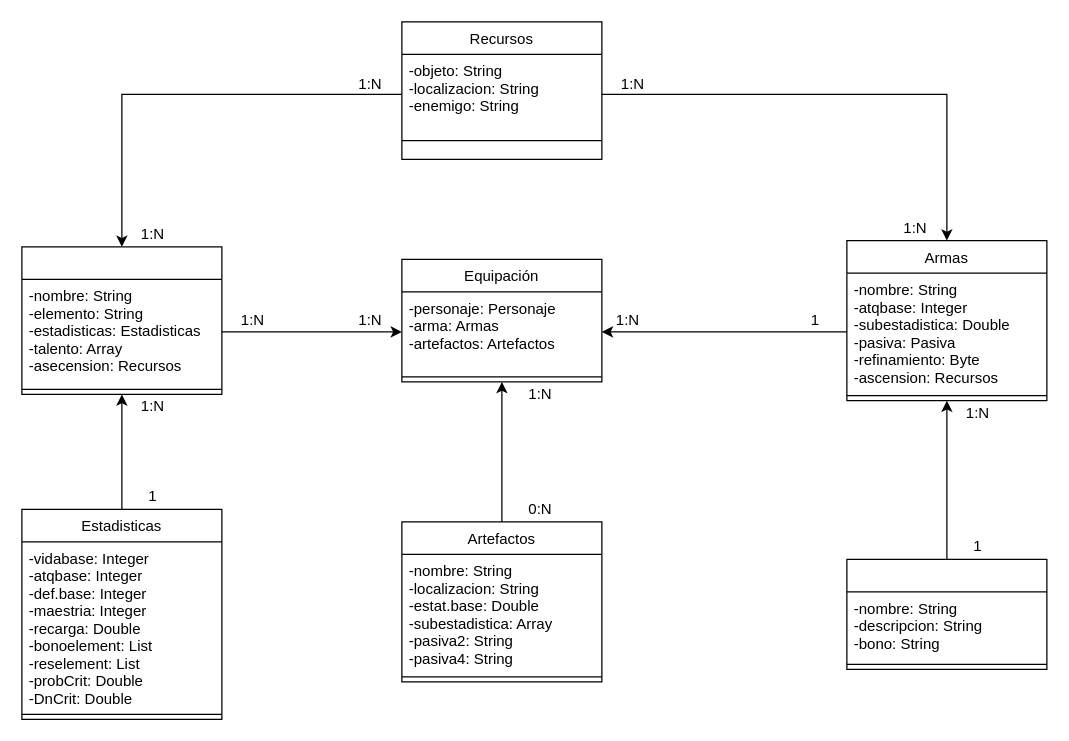
Image size: 1069x741. Some labels were removed from this diagram. Each missing label, with the box of its shape:
Pasiva: (846, 558, 1047, 669)
Personajes: (21, 246, 222, 394)
